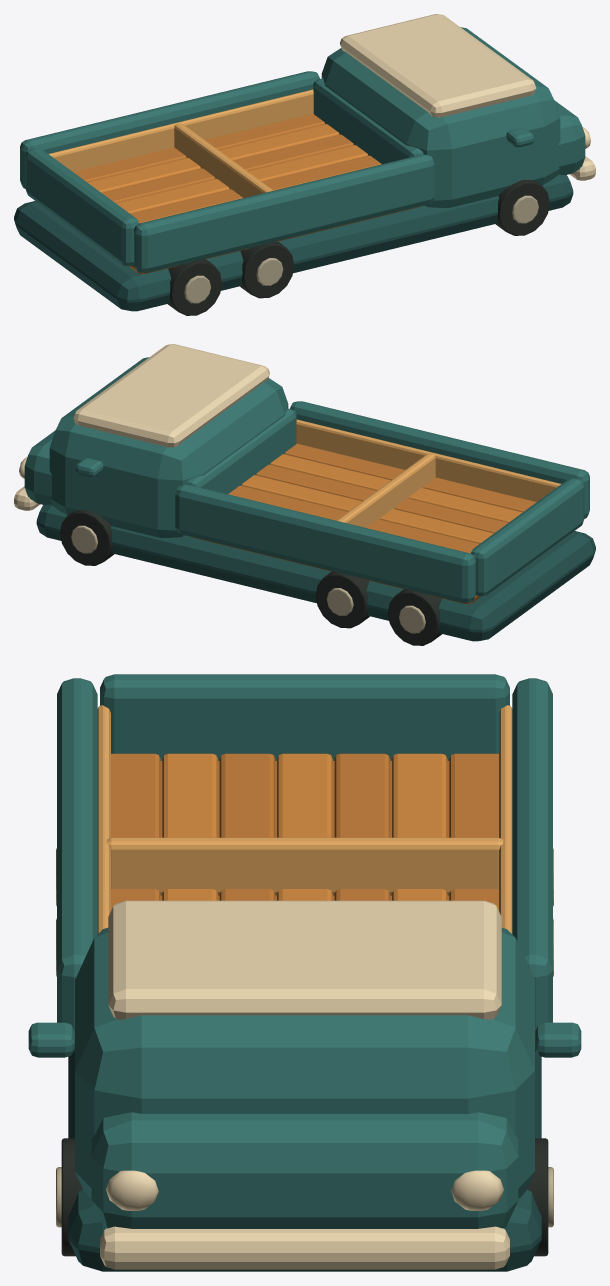
File: Market_Truck.fbx
3 renders of one model, top to bottom at view 1: azimuth 30°, elevation 25°; view 2: azimuth 150°, elevation 25°; view 3: azimuth 270°, elevation 25°, orthographic. The views are drawn at different scales.
Visible parts, largest first — view 1: Body, Wheels; view 2: Body, Wheels; view 3: Body, Wheels.
Part boxes in pixels (x1,y1,x2,y2): Body: (14, 14, 595, 311); Wheels: (168, 180, 549, 315); Body: (14, 344, 595, 641); Wheels: (60, 510, 441, 645); Body: (28, 674, 581, 1271); Wheels: (56, 848, 553, 1256).
Bounding box in the file's own units: 3.33 × 0.9275 × 1.66.
